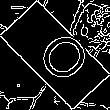O_SW: (21, 22, 89, 88)
